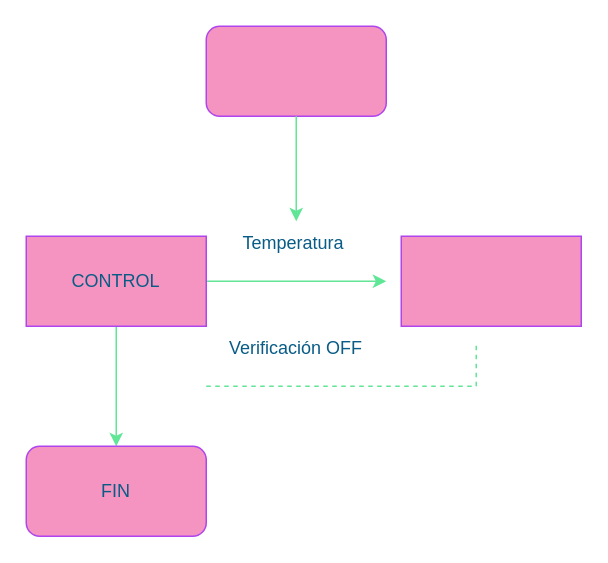
Some shapes in this 608 by 563 pixel diagram are drawn without their labels. Each missing label, with the centre of its shape:
"MONITOREO" belongs at (295,70).
"VERIFICACION ON" belongs at (490,280).
